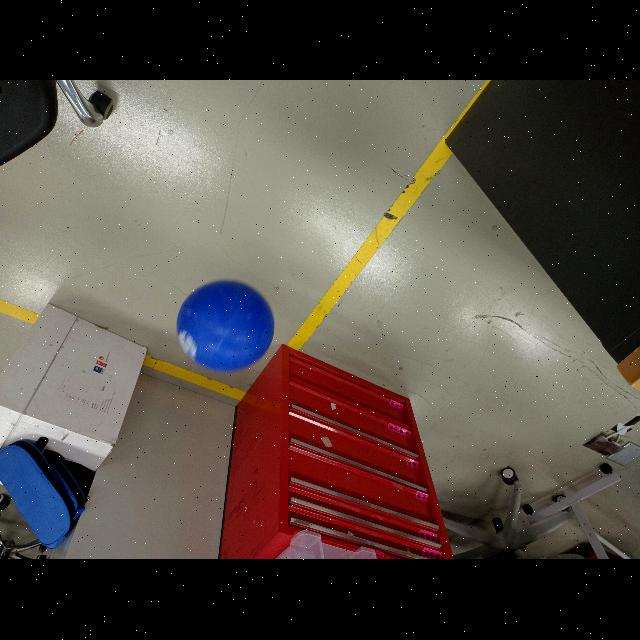B: (176, 281, 274, 373)
